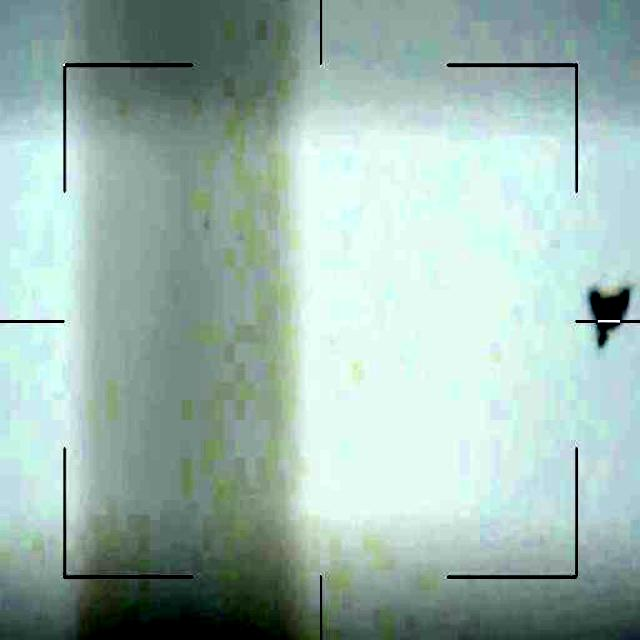bird: (582, 276, 636, 351)
